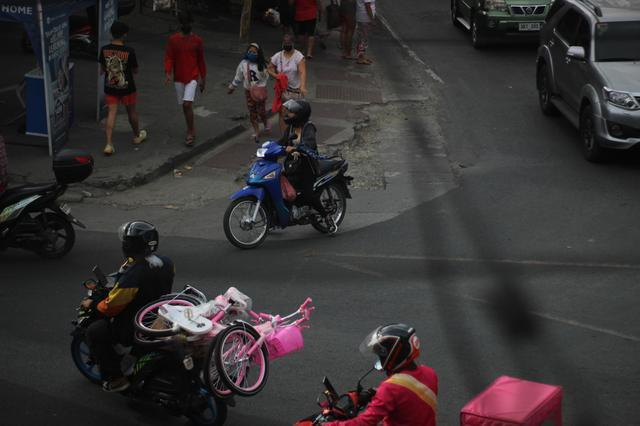helmet: (366, 320, 422, 376), (121, 221, 159, 263), (282, 98, 311, 128)
motorcycle: (66, 219, 231, 426), (223, 98, 355, 248)
